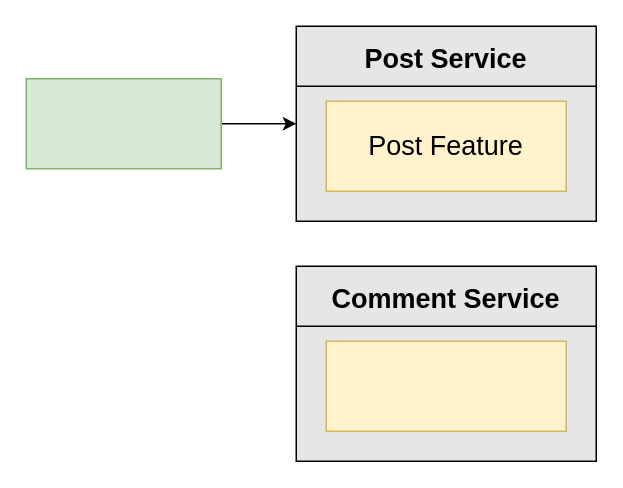
Some shapes in this 623 by 488 pixel diagram are drawn without their labels. The box of each missing label's shape, as (x1, y1, x2, y2) in pixels:
Comment Feature: (325, 340, 566, 431)
POST/Posts: (25, 77, 221, 169)
